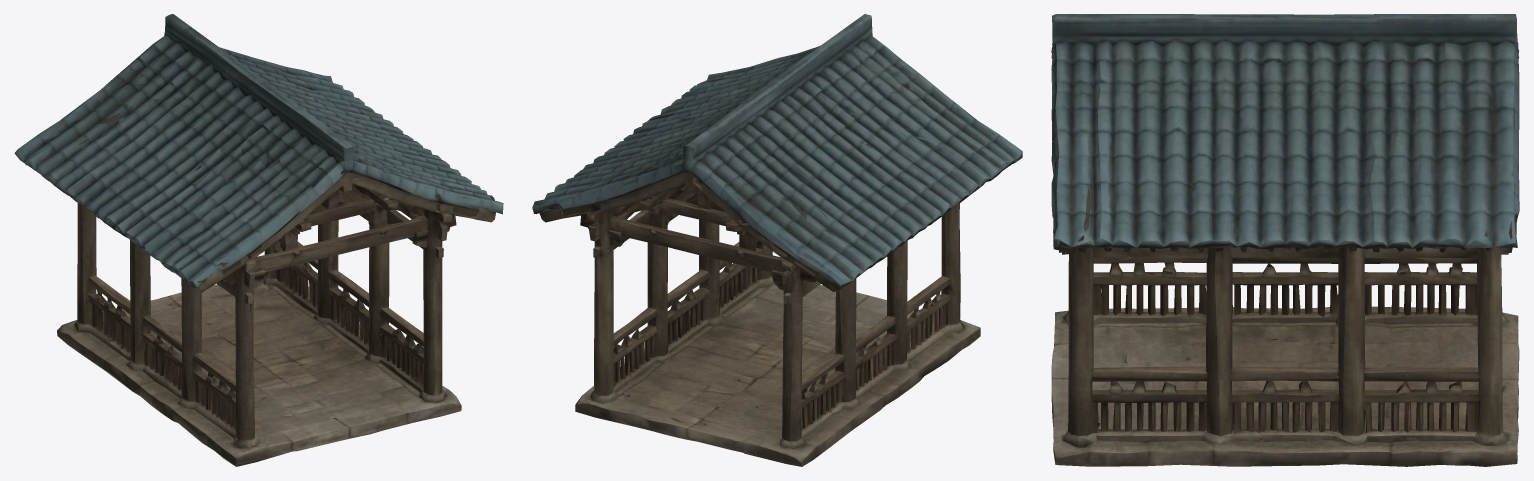
Rendered from ARCH-004.glb.
The picture shows the model from 3 angles, left to right: view 1: azimuth 30°, elevation 25°; view 2: azimuth 150°, elevation 25°; view 3: azimuth 270°, elevation 25°; orthographic projection. The views are drawn at different scales.
Visible parts, largest first — view 1: world; view 2: world; view 3: world.
Boxes of the visible parts, x1=… form: world: x1=14, y1=14, x2=503, y2=466; world: x1=532, y1=14, x2=1022, y2=466; world: x1=1051, y1=14, x2=1519, y2=466.
Size of the model in its own units: 6 by 5.36 by 5.99.
Materials: 1 (1 with a texture image).
